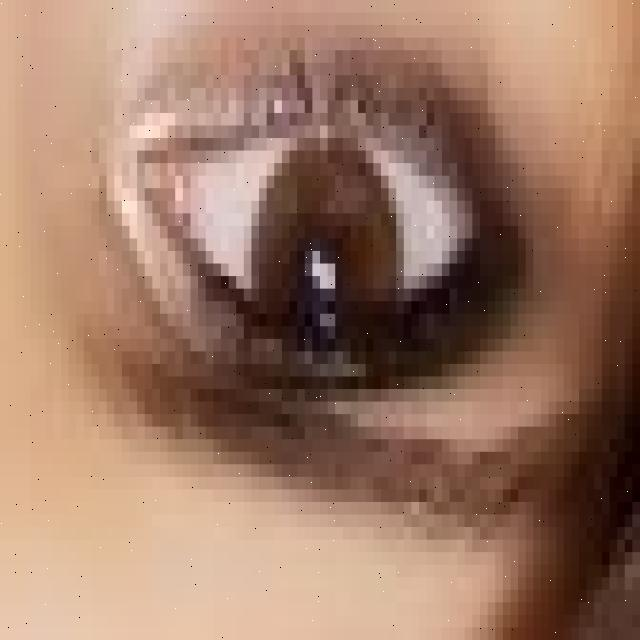Normal: (253, 140, 403, 392)
